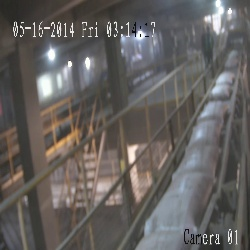cementbag: (144, 173, 214, 233), (173, 145, 220, 178), (135, 232, 196, 250), (187, 120, 222, 149), (197, 101, 227, 122), (210, 84, 231, 99), (215, 71, 236, 84)
